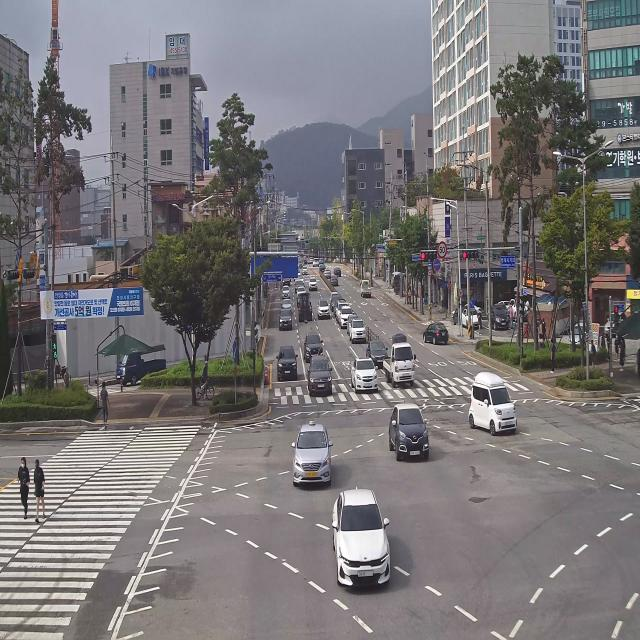Car: (327, 482, 400, 604), (461, 360, 521, 448), (286, 417, 337, 500), (383, 402, 435, 470), (350, 347, 382, 398), (304, 348, 332, 402), (274, 341, 300, 389), (418, 315, 452, 350), (364, 336, 390, 372), (487, 299, 510, 338), (567, 315, 588, 351), (344, 316, 368, 346), (274, 306, 296, 336), (303, 329, 325, 359), (312, 297, 334, 325), (461, 306, 481, 332), (512, 296, 530, 322), (335, 298, 348, 322), (340, 305, 354, 325), (281, 298, 294, 318), (346, 312, 359, 332), (307, 274, 317, 291), (280, 285, 290, 301), (329, 274, 339, 289), (330, 296, 340, 310), (282, 276, 292, 288), (328, 290, 338, 301), (294, 280, 302, 292), (333, 266, 341, 277), (297, 274, 305, 285), (298, 287, 306, 297), (302, 265, 309, 276), (324, 268, 331, 278), (320, 264, 326, 274)
Truck: (111, 344, 167, 388), (380, 329, 418, 392), (297, 294, 314, 324), (359, 274, 374, 304)
